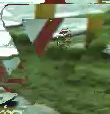Give way: (4, 0, 96, 101)
